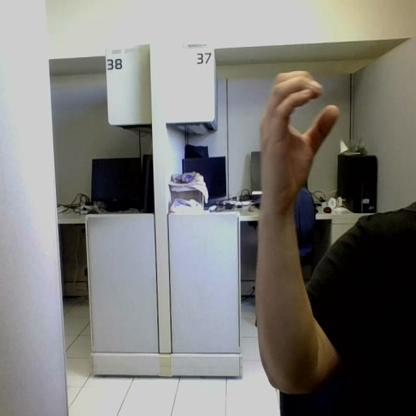C: (261, 70, 338, 208)
